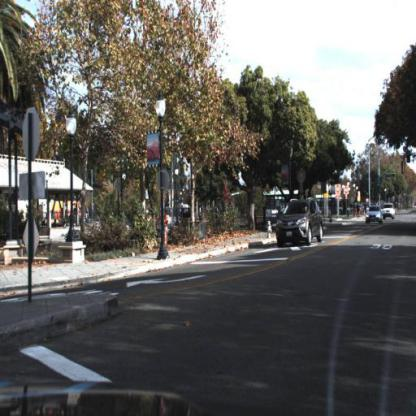car: (276, 195, 326, 252), (364, 203, 384, 228), (382, 201, 399, 219)
